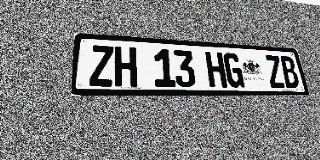1: (153, 48, 176, 87)
3: (173, 50, 196, 87)
B: (279, 56, 301, 88)
G: (223, 53, 245, 88)
H: (114, 46, 137, 87), (205, 52, 227, 87)
Z: (89, 45, 114, 87), (264, 55, 286, 88)
